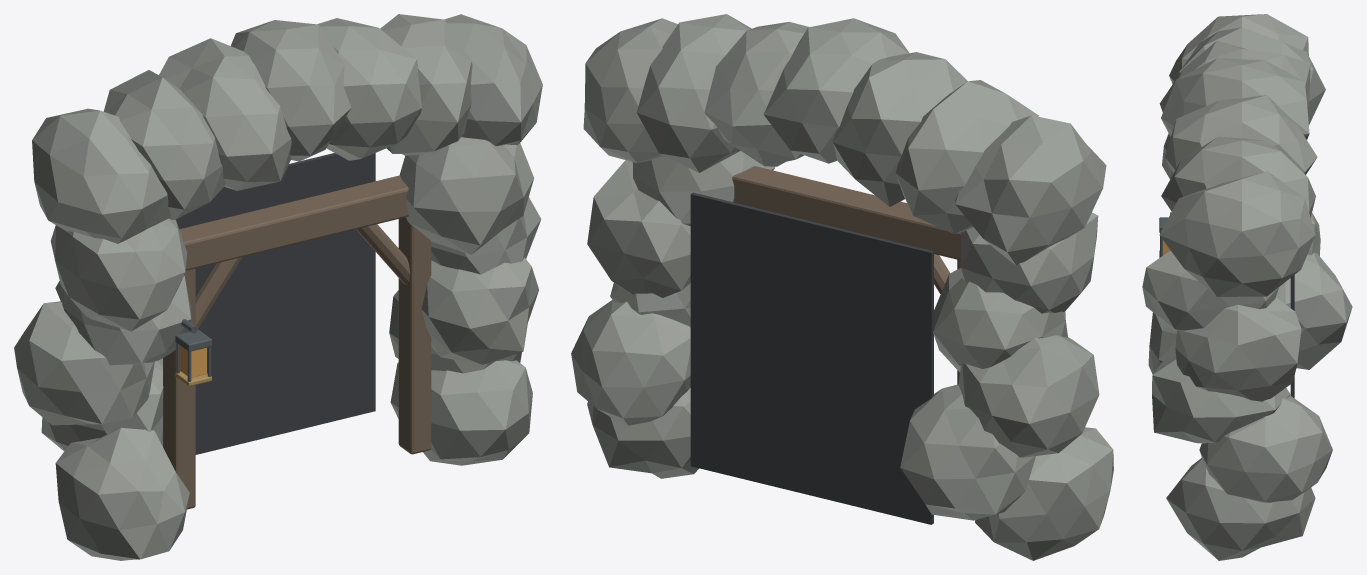
Rendered from cave_portal.glb.
3 renders of one model, left to right at view 1: azimuth 30°, elevation 25°; view 2: azimuth 150°, elevation 25°; view 3: azimuth 270°, elevation 25°, orthographic. The views are drawn at different scales.
Visible parts, largest first — view 1: Body.010; view 2: Body.010; view 3: Body.010.
Part boxes in pixels (x1=…): Body.010: x1=14, y1=14, x2=542, y2=560; Body.010: x1=571, y1=14, x2=1113, y2=560; Body.010: x1=1142, y1=14, x2=1352, y2=560.
Size of the model in its own units: 3.72 by 3.46 by 1.58.
